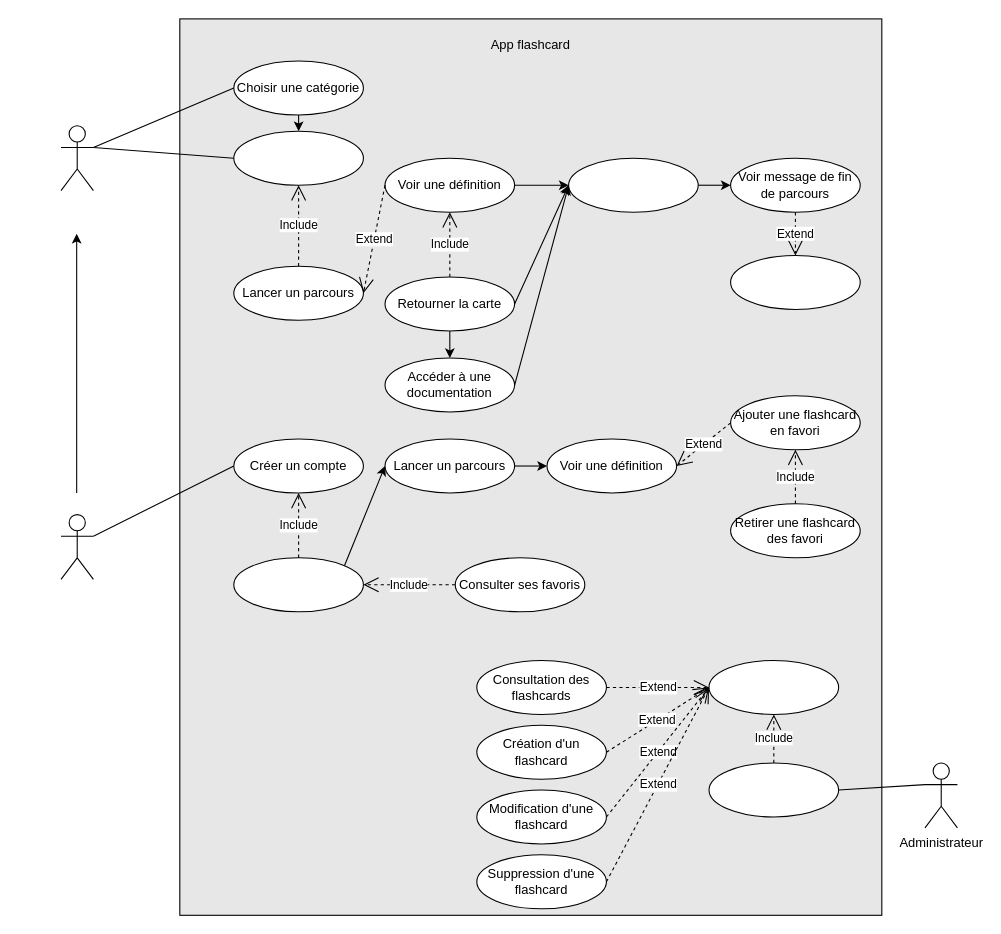
This 1001x934 diagram has some shape labels left out. Here are the shapes that lost their labels. From the top down, the box of each, then its label:
(60, 125, 93, 191): Utilisateur
(233, 130, 363, 185): Choisir un nombre de flashcard
(568, 157, 698, 212): Passer à la carte suivante
(730, 254, 860, 309): Revenir à l'accueil
(60, 514, 93, 579): Utilisateur Connecté
(233, 557, 363, 612): Se connecter
(708, 659, 839, 714): Connexion au Dashboard Admin
(708, 762, 839, 817): Identification en tant qu'Admin
